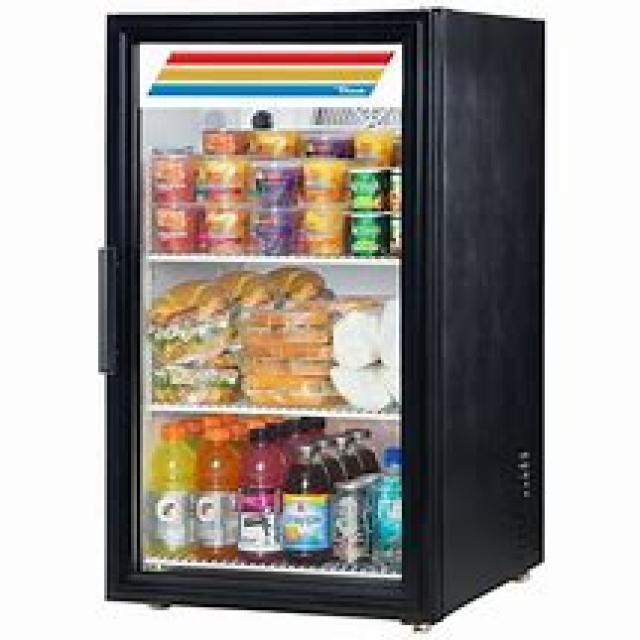fridge: (95, 6, 545, 628)
